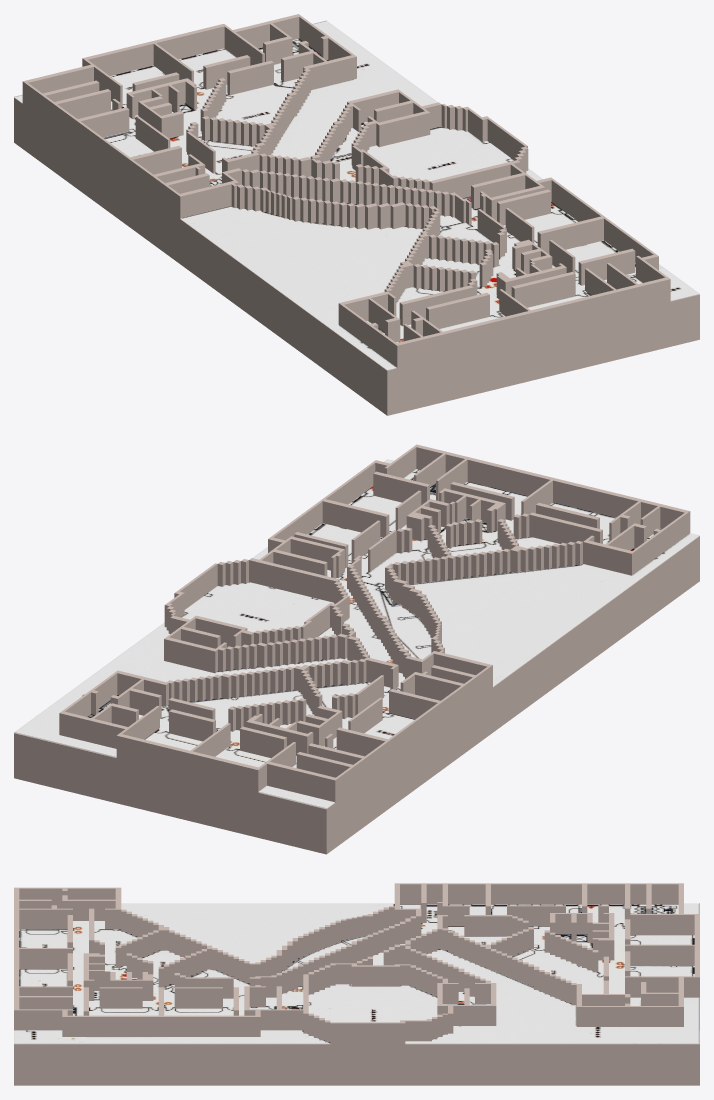
Rendered from General-4F-cube.glb.
3 renders of one model, top to bottom at view 1: azimuth 30°, elevation 25°; view 2: azimuth 150°, elevation 25°; view 3: azimuth 270°, elevation 25°, orthographic. The views are drawn at different scales.
Visible parts, largest first — view 1: Cube, Plane; view 2: Cube, Plane; view 3: Cube, Plane.
Boxes of the visible parts, x1,y1,x2,y2 form: Cube: (14, 14, 699, 415); Plane: (14, 20, 699, 369); Cube: (14, 444, 699, 854); Plane: (14, 459, 699, 808); Cube: (14, 883, 699, 1085); Plane: (14, 903, 699, 1043).
Bounding box in the file's own units: 14.5 × 3 × 30.
2 materials, 1 textured.
